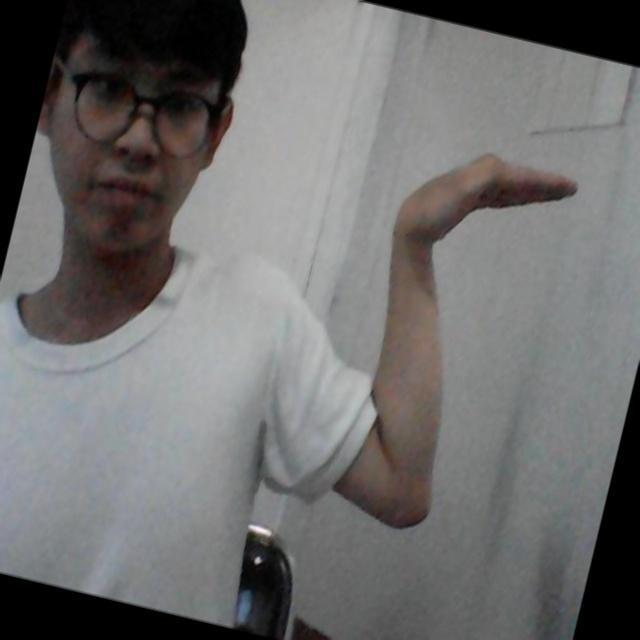Z: (359, 145, 580, 535)
